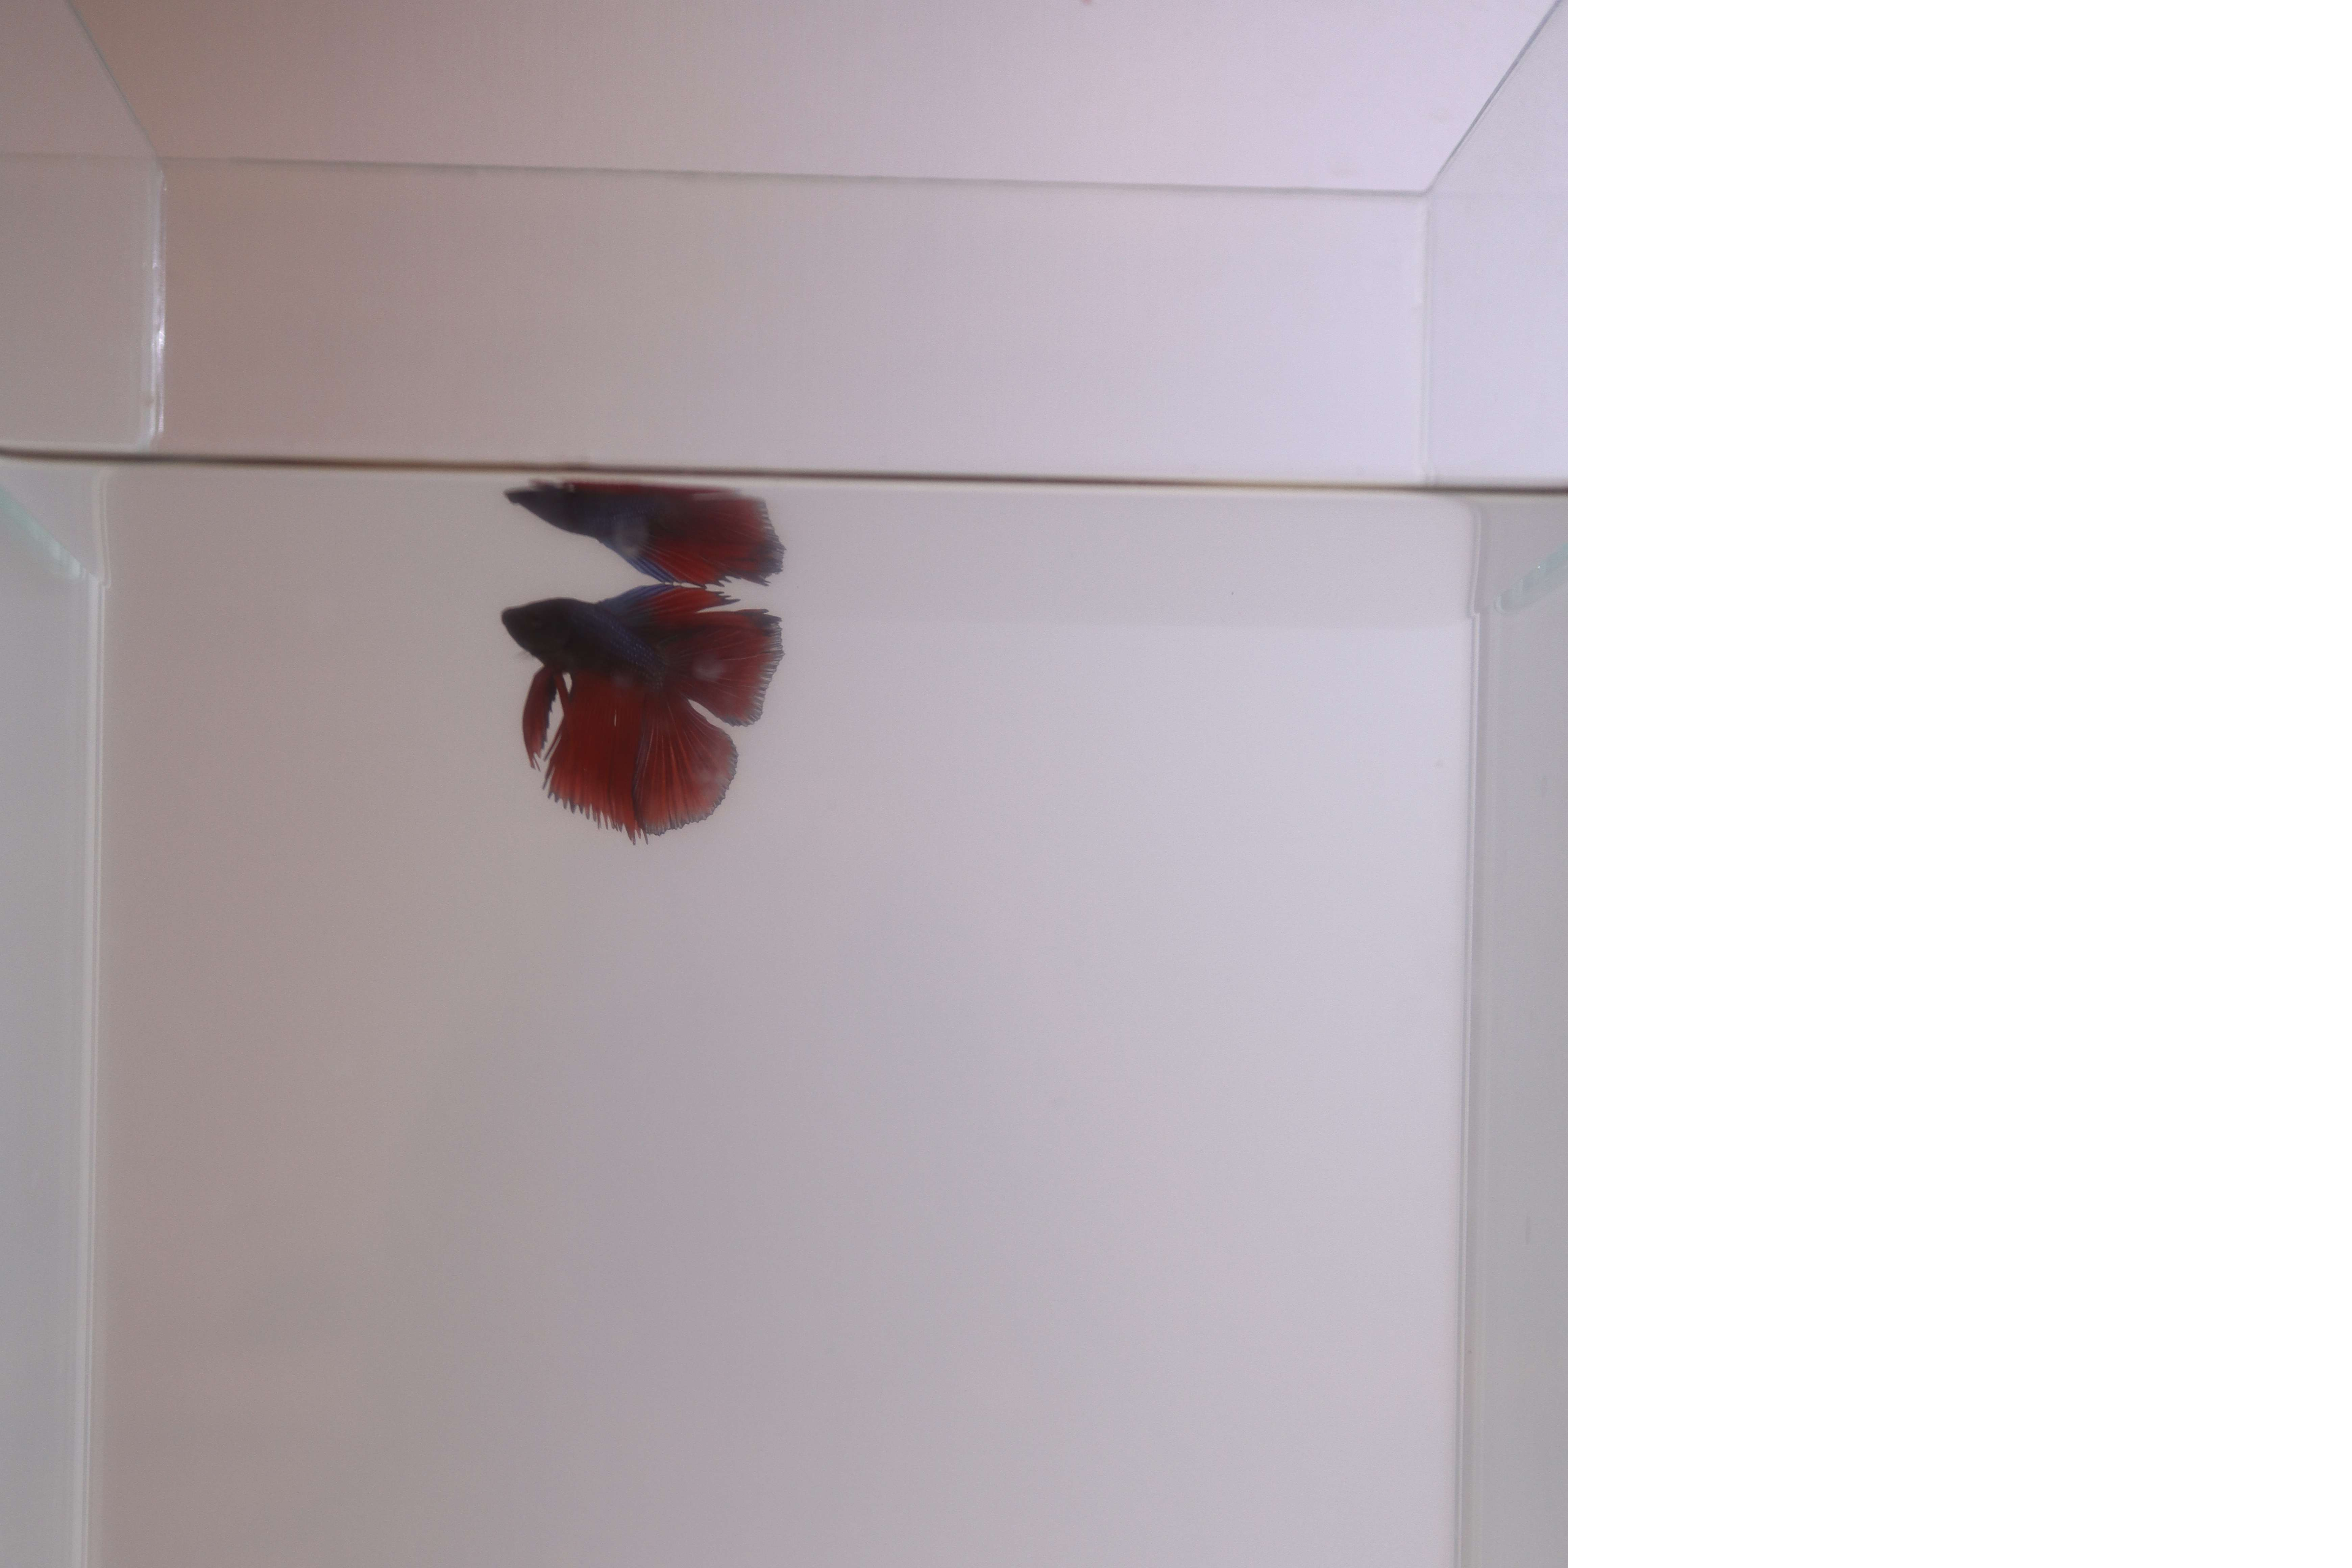fish: (465, 583, 808, 844)
